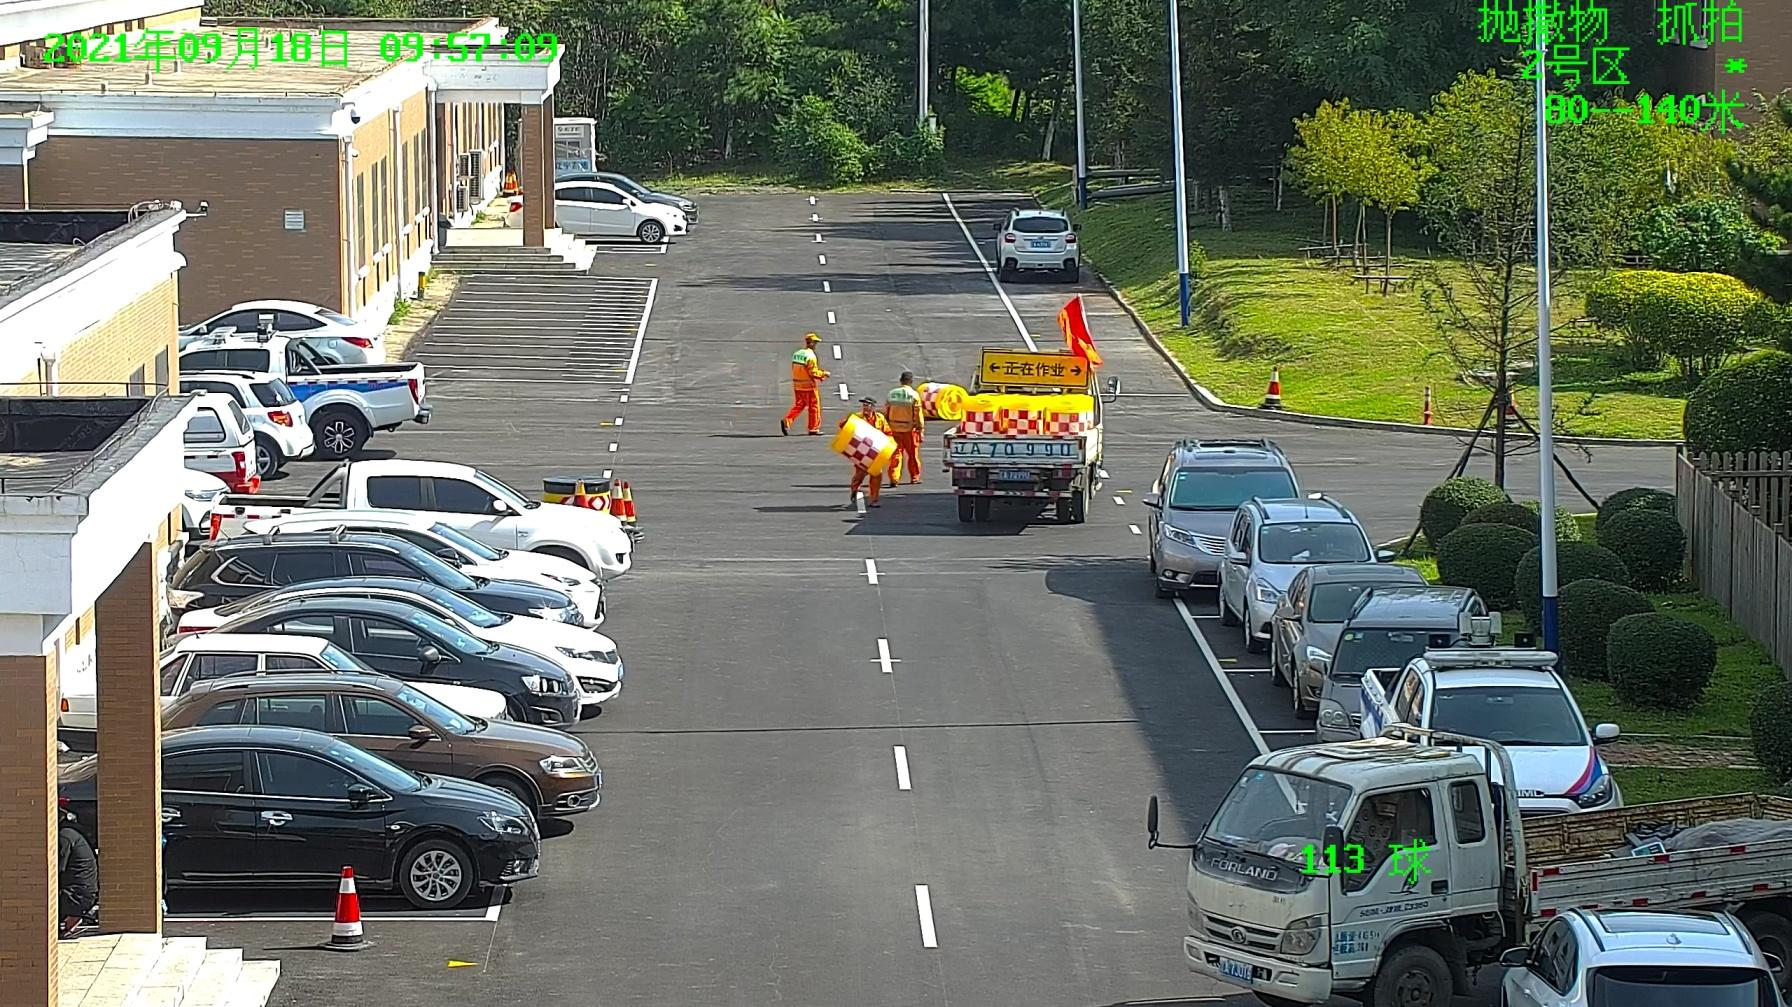cone_barrel: (832, 414, 901, 475), (1039, 390, 1086, 436), (912, 380, 965, 417), (997, 391, 1038, 438), (958, 393, 999, 436)
